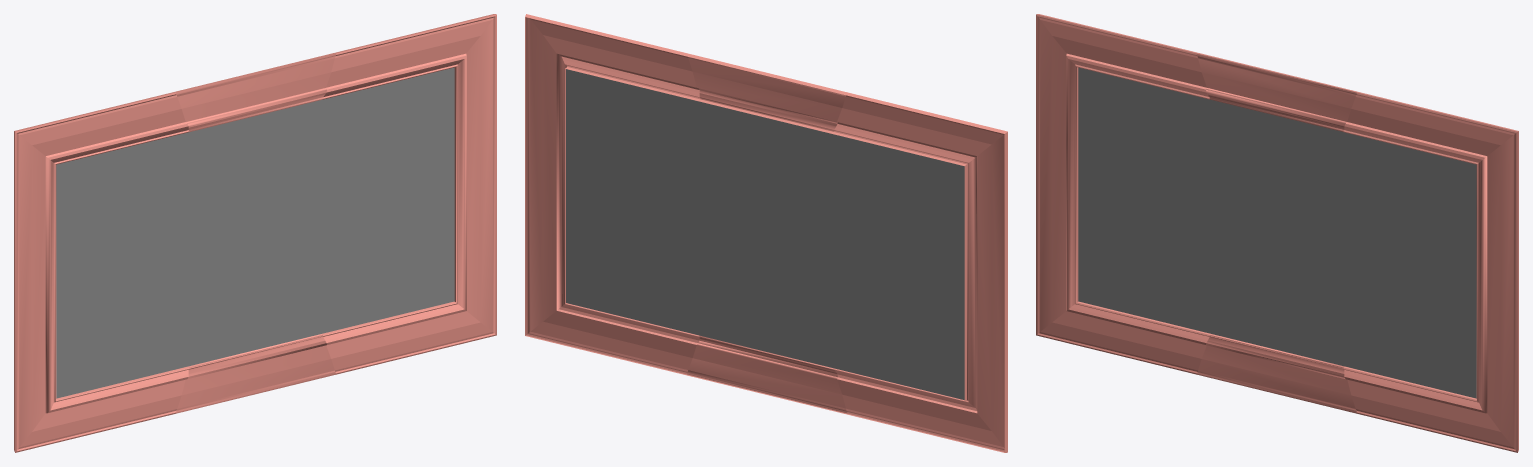
The model's file is Picture.FBX.
The picture shows the model from 3 angles, left to right: view 1: azimuth 30°, elevation 25°; view 2: azimuth 150°, elevation 25°; view 3: azimuth 330°, elevation 25°; orthographic projection.
Visible parts, largest first — view 1: Frame; view 2: Frame; view 3: Frame.
Part boxes in pixels (box(x1,y1,x2,y2)): Frame: box(14, 14, 496, 452); Frame: box(525, 14, 1007, 452); Frame: box(1036, 14, 1518, 452).
Size of the model in its own units: 1.18 by 0.0159 by 0.7511.
